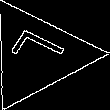L_SE: (3, 29, 71, 80)
